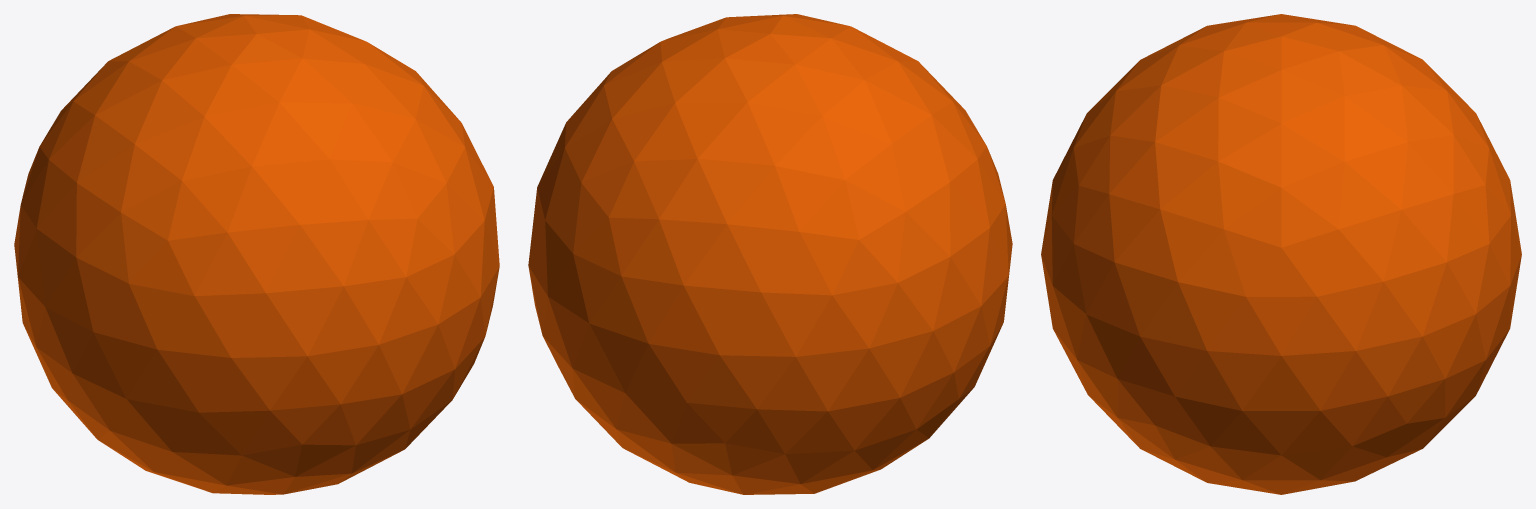
The model's file is sun.glb.
The picture shows the model from 3 angles, left to right: view 1: azimuth 30°, elevation 25°; view 2: azimuth 150°, elevation 25°; view 3: azimuth 270°, elevation 25°; orthographic projection.
Parts seen in each view (by area): view 1: Icosphere; view 2: Icosphere; view 3: Icosphere.
Boxes of the visible parts, left/top/right/bottom form: Icosphere: left=14, top=14, right=499, bottom=494; Icosphere: left=528, top=14, right=1012, bottom=494; Icosphere: left=1041, top=14, right=1521, bottom=494.
Bounding box in the file's own units: 20.87 × 20.8 × 20.87.
